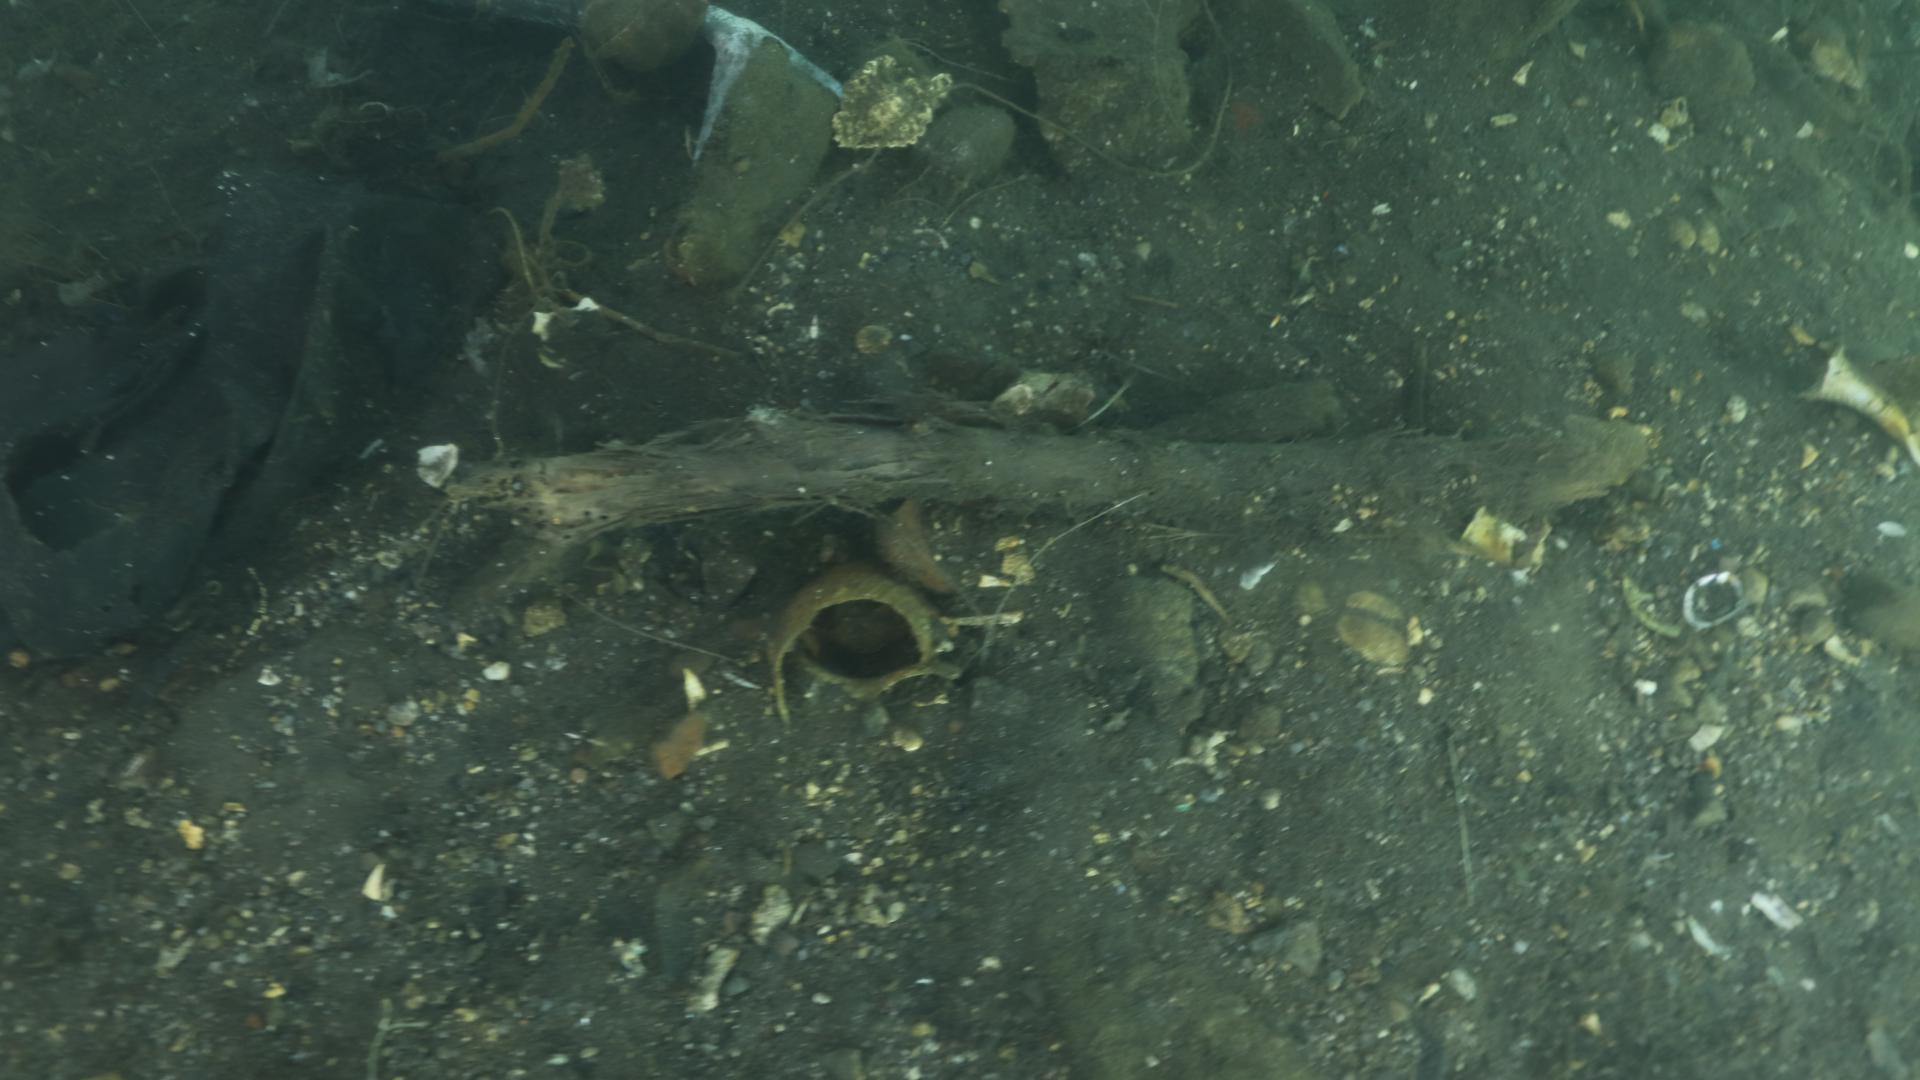wood: (527, 411, 1646, 529)
